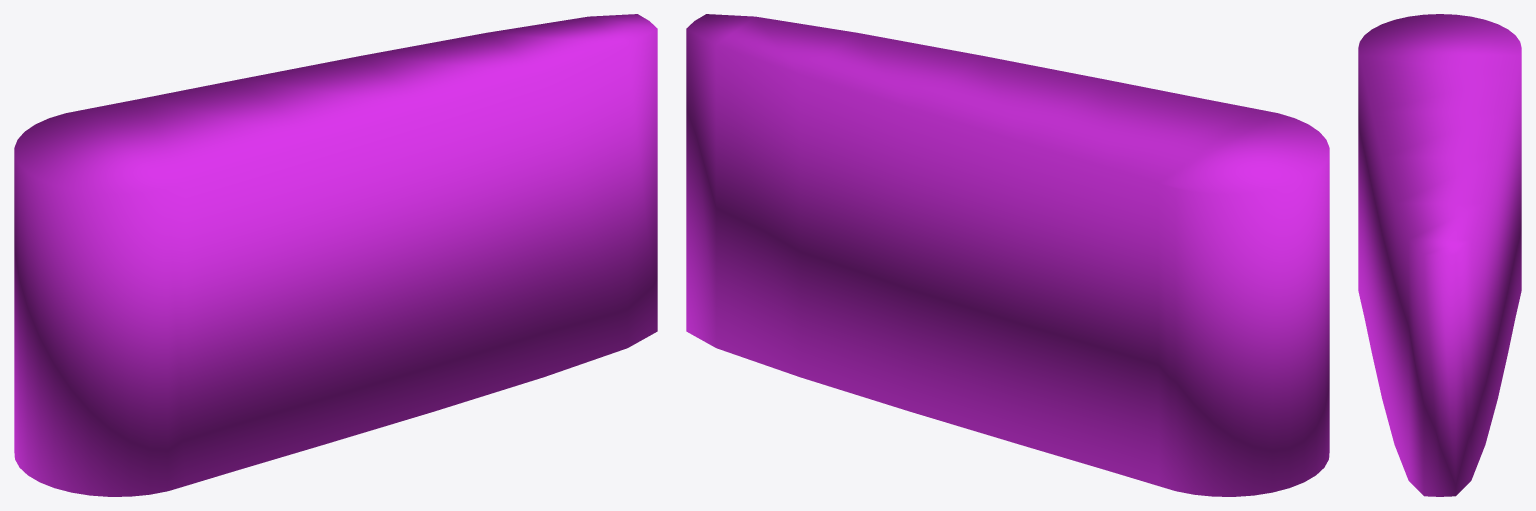
Rendered from flipper.fbx.
The picture shows the model from 3 angles, left to right: view 1: azimuth 30°, elevation 25°; view 2: azimuth 150°, elevation 25°; view 3: azimuth 270°, elevation 25°; orthographic projection. The views are drawn at different scales.
Visible parts, largest first — view 1: Flipper; view 2: Flipper; view 3: Flipper.
Boxes of the visible parts, box(x1,y1,x2,y2) form: Flipper: box(14, 14, 657, 496); Flipper: box(686, 14, 1329, 496); Flipper: box(1358, 14, 1521, 496).
Bounding box in the file's own units: 34.95 × 16.27 × 10.
